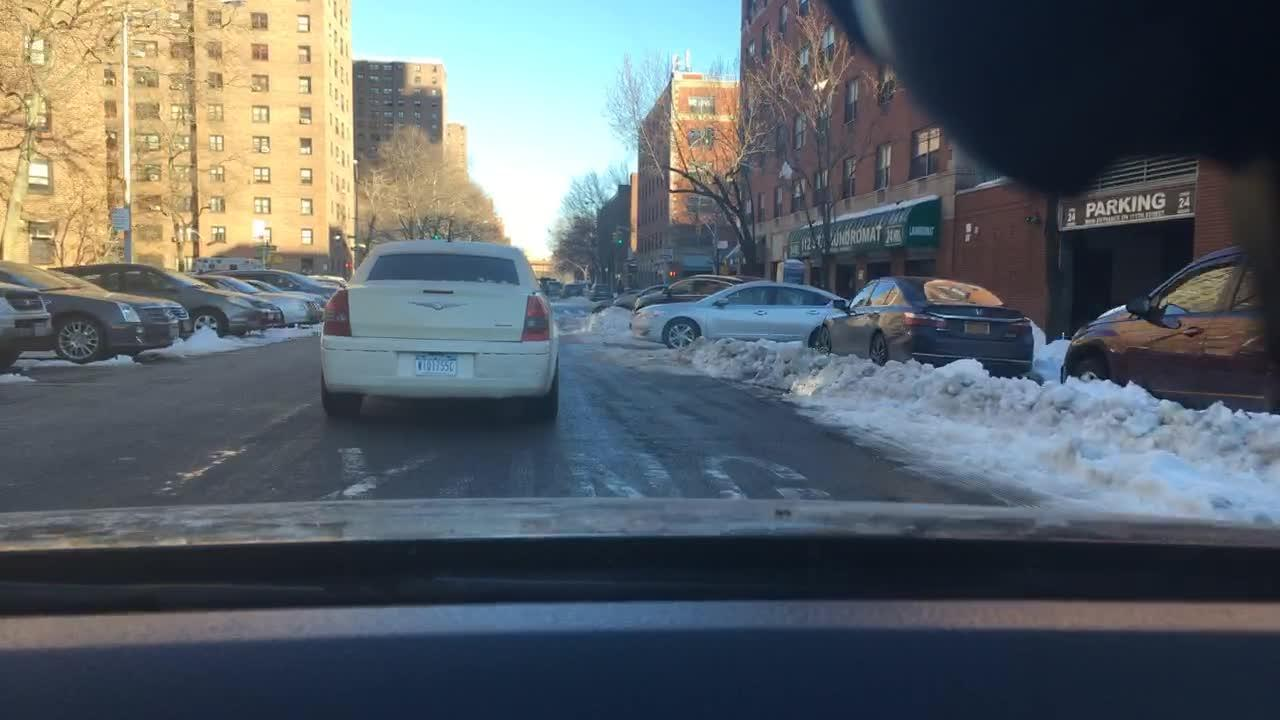Chrysler: (406, 293, 472, 314)
